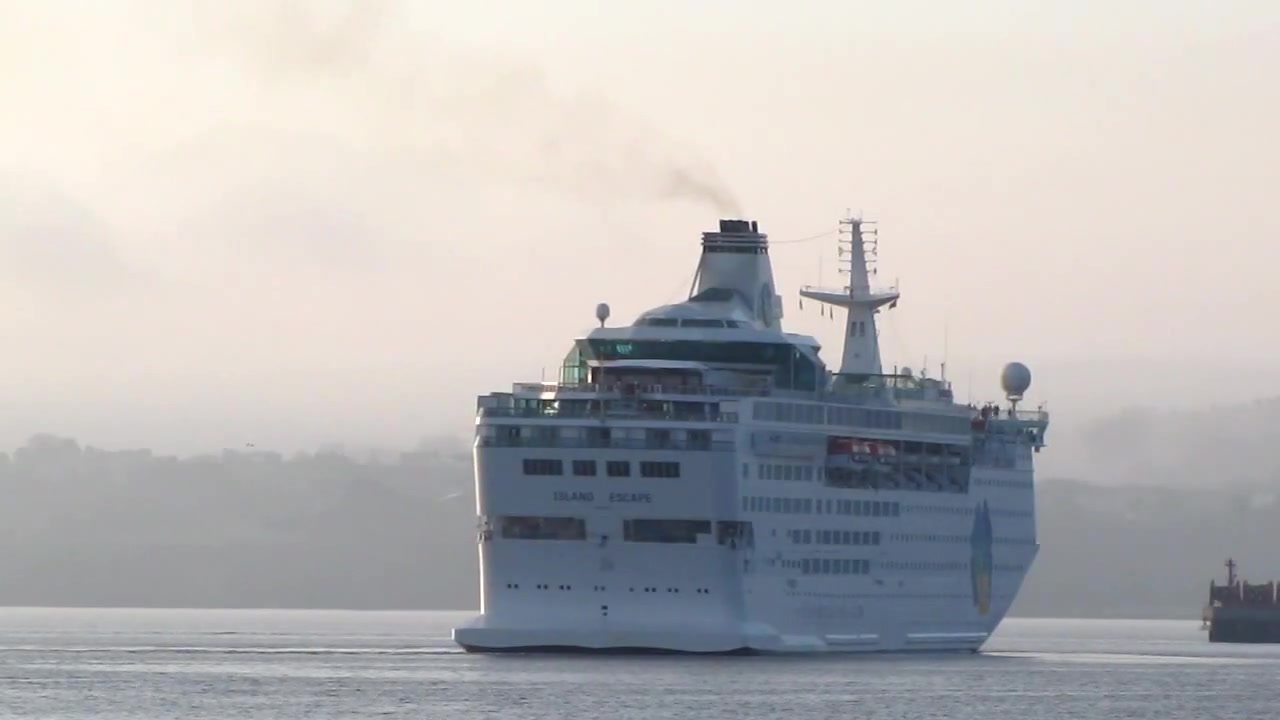boat: (448, 209, 1050, 664)
